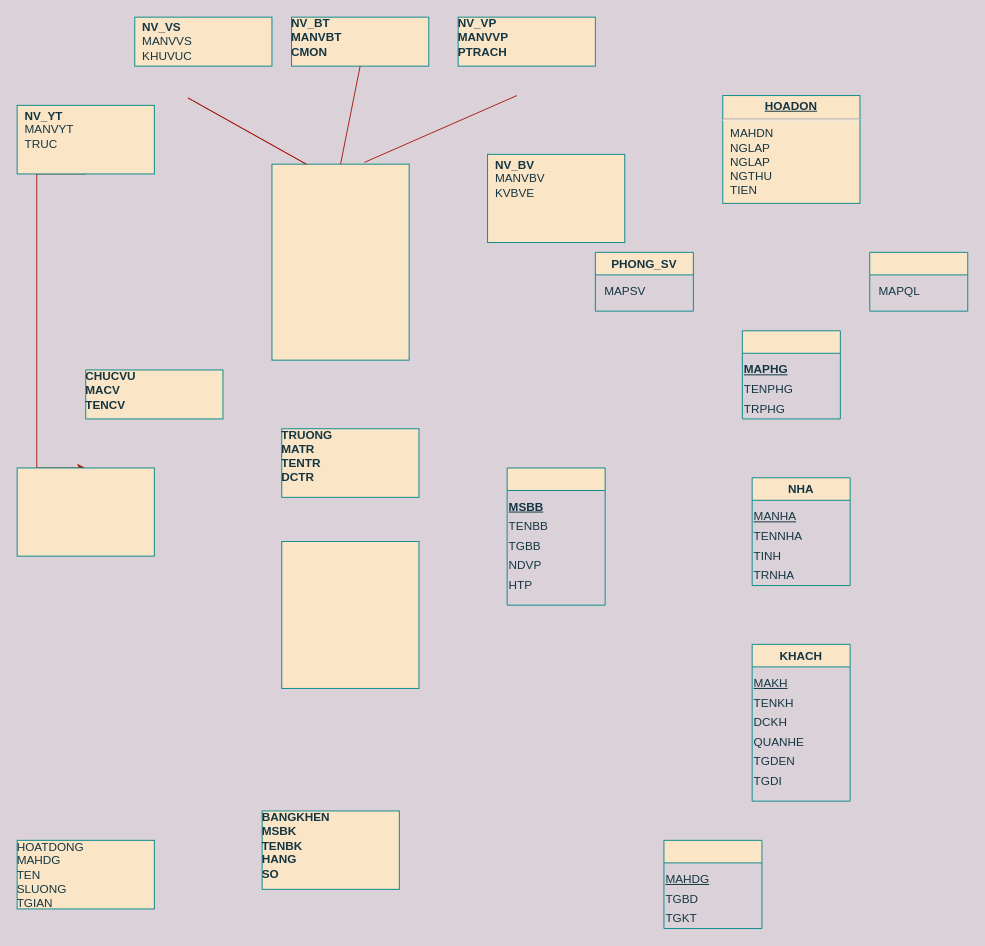
Image size: 985x946. Some labels were removed from this diagram. Here are the shapes that lost their labels. From the top down, the box of each, then its label:
(271, 163, 409, 360): NHANVIEN MANV HOTENNV SDTNV DCNV GTNV LUONG
(869, 251, 968, 311): PHONG_QL
(741, 330, 840, 419): PHONG
(16, 467, 154, 556): PHIEUKHAM MSPK BENH DTRI TGKHAM
(506, 467, 605, 605): BIENBAN
(281, 540, 419, 688): SINHVIEN MASSV HTENSV GTINH NGSINH NOISINH DCSV SDTSV
(663, 839, 762, 929): HOPDONG
